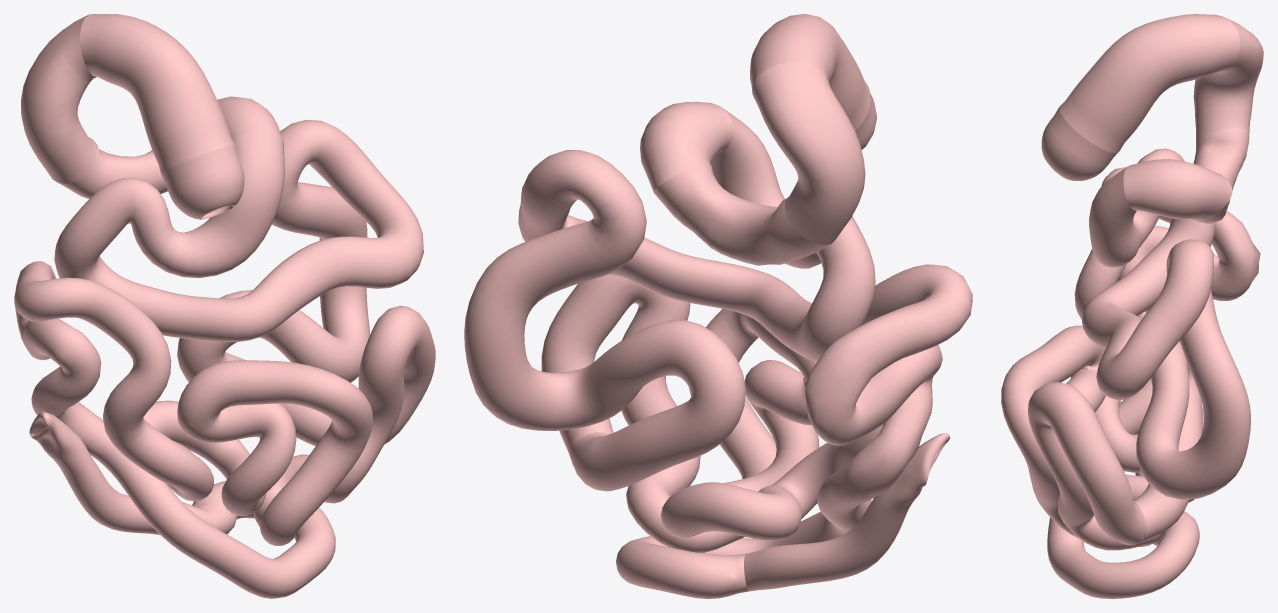
The model's file is tynntarm.fbx.
3 views of the same model, side by side, from view 1: azimuth 30°, elevation 25°; view 2: azimuth 150°, elevation 25°; view 3: azimuth 270°, elevation 25° (orthographic). The views are drawn at different scales.
Visible parts, largest first — view 1: VH_F_ileum, VH_F_jejenum, VH_F_duodenum_superior, VH_F_duodenum_descending, VH_F_ileum_terminal, VH_F_duodenal_ampulla, VH_F_duodenum_horizontal, VH_F_duodenum_ascending; view 2: VH_F_ileum, VH_F_jejenum, VH_F_duodenum_descending, VH_F_ileum_terminal, VH_F_duodenum_horizontal, VH_F_duodenum_superior, VH_F_duodenum_ascending; view 3: VH_F_jejenum, VH_F_ileum, VH_F_duodenum_superior, VH_F_duodenum_ascending, VH_F_duodenum_descending, VH_F_duodenal_ampulla, VH_F_duodenum_horizontal.
Part boxes in pixels (left/top/right/bottom): VH_F_ileum: left=14, top=261, right=435, bottom=598; VH_F_jejenum: left=54, top=120, right=423, bottom=446; VH_F_duodenum_superior: left=80, top=14, right=234, bottom=173; VH_F_duodenum_descending: left=21, top=14, right=96, bottom=183; VH_F_ileum_terminal: left=29, top=411, right=217, bottom=535; VH_F_duodenal_ampulla: left=161, top=145, right=244, bottom=219; VH_F_duodenum_horizontal: left=59, top=137, right=167, bottom=198; VH_F_duodenum_ascending: left=217, top=96, right=281, bottom=140; VH_F_ileum: left=541, top=264, right=972, bottom=598; VH_F_jejenum: left=464, top=107, right=875, bottom=491; VH_F_duodenum_descending: left=752, top=62, right=865, bottom=245; VH_F_ileum_terminal: left=744, top=433, right=949, bottom=591; VH_F_duodenum_horizontal: left=654, top=163, right=830, bottom=265; VH_F_duodenum_superior: left=750, top=14, right=870, bottom=130; VH_F_duodenum_ascending: left=640, top=101, right=733, bottom=193; VH_F_jejenum: left=1082, top=148, right=1250, bottom=545; VH_F_ileum: left=1001, top=167, right=1260, bottom=598; VH_F_duodenum_superior: left=1059, top=14, right=1240, bottom=153; VH_F_duodenum_ascending: left=1123, top=159, right=1232, bottom=219; VH_F_duodenum_descending: left=1193, top=17, right=1263, bottom=142; VH_F_duodenal_ampulla: left=1041, top=108, right=1119, bottom=180; VH_F_duodenum_horizontal: left=1193, top=128, right=1249, bottom=223.
Size of the model in its own units: 16.16 by 21.72 by 10.
